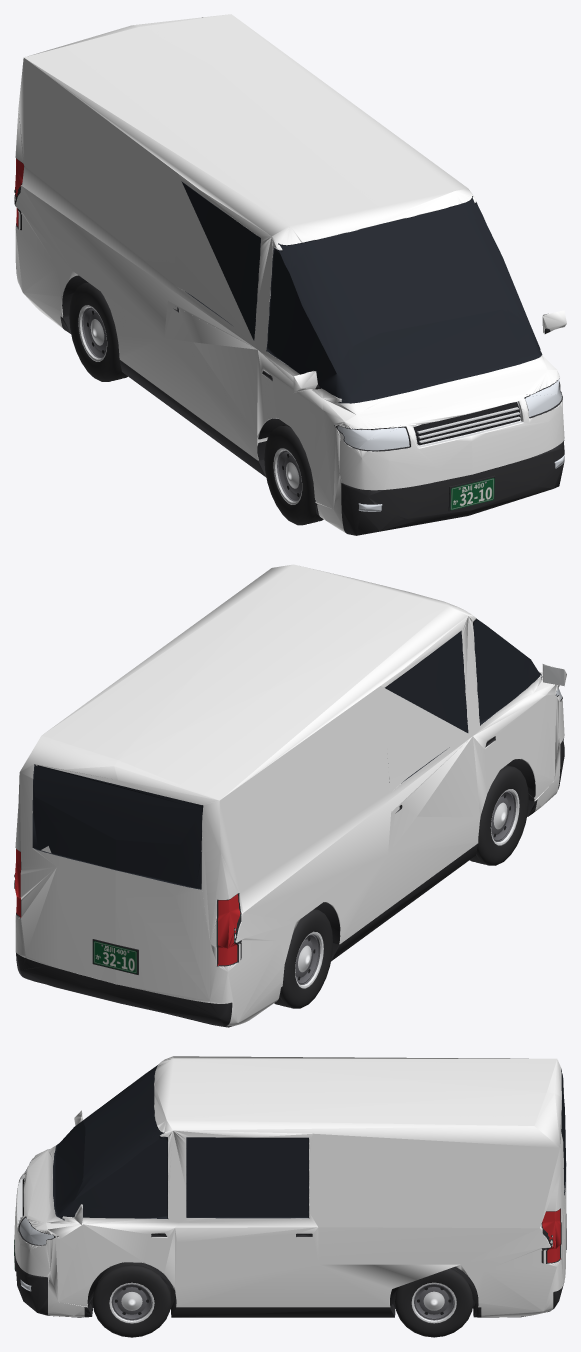
File: traffic_van.fbx
3 renders of one model, top to bottom at view 1: azimuth 30°, elevation 25°; view 2: azimuth 150°, elevation 25°; view 3: azimuth 270°, elevation 25°, orthographic. The views are drawn at different scales.
Visible parts, largest first — view 1: Body, Wheel_FR, Wheel_RR; view 2: Body, Wheel_FR, Wheel_RR; view 3: Body, Wheel_FL, Wheel_RL.
Boxes of the visible parts, left/top/right/bottom form: Body: left=14, top=14, right=566, bottom=535; Wheel_FR: left=264, top=424, right=323, bottom=525; Wheel_RR: left=69, top=282, right=127, bottom=381; Body: left=14, top=564, right=566, bottom=1027; Wheel_FR: left=470, top=765, right=528, bottom=865; Wheel_RR: left=274, top=909, right=332, bottom=1008; Body: left=14, top=1056, right=566, bottom=1317; Wheel_FL: left=92, top=1262, right=171, bottom=1337; Wheel_RL: left=394, top=1267, right=473, bottom=1337.
Bounding box in the file's own units: 2.06 × 1.96 × 4.7.
Materials: 11 (1 with a texture image).
